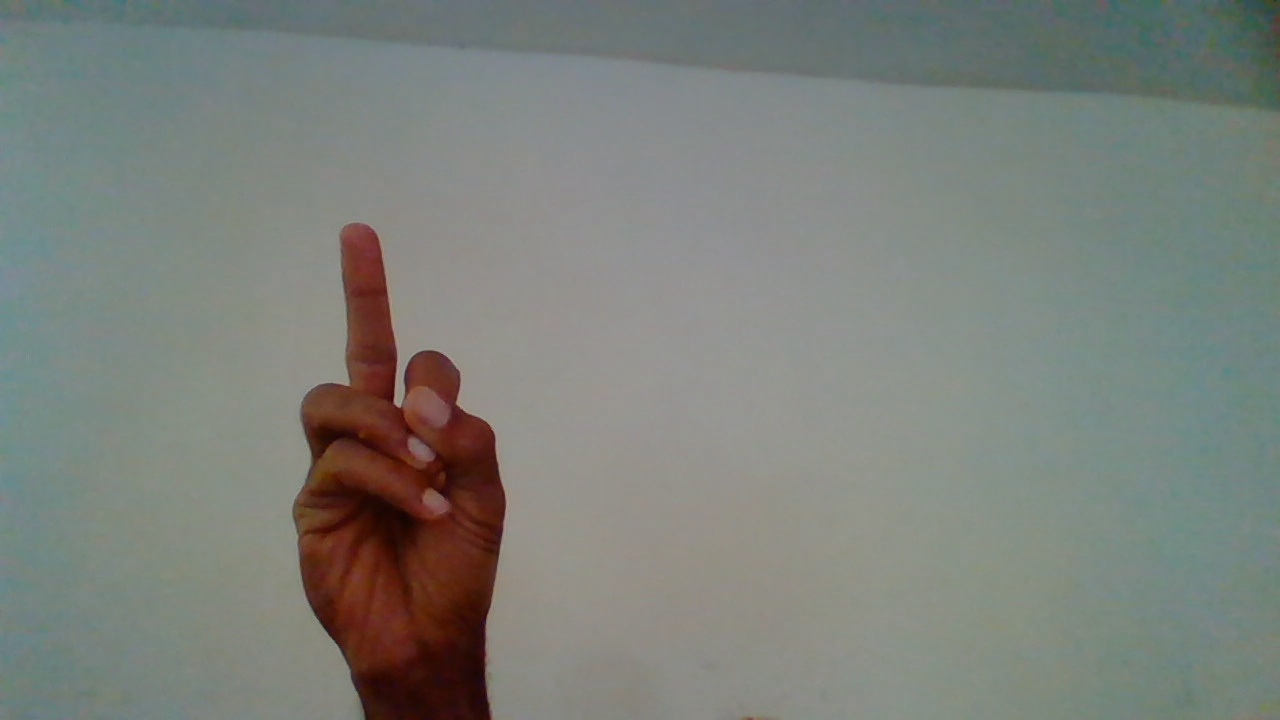he: (295, 222, 522, 718)
